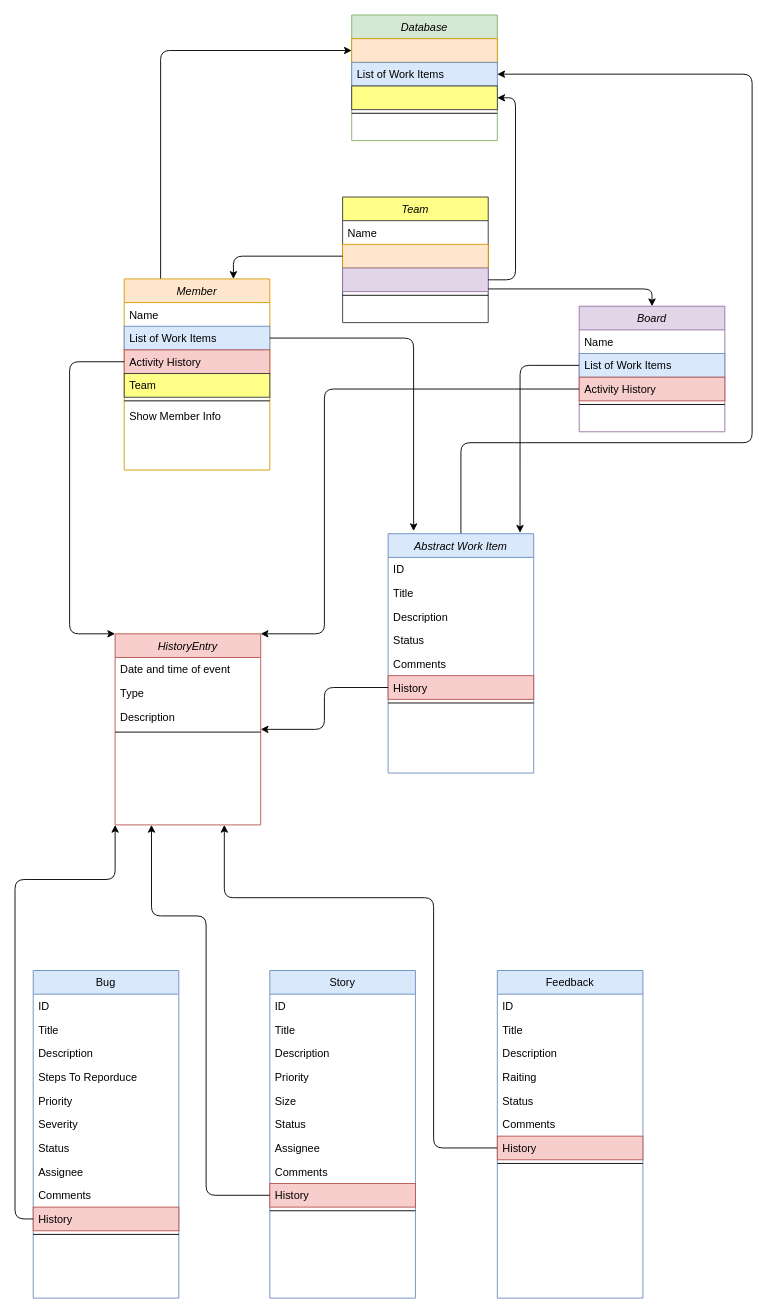
Some shapes in this 767 by 1313 pixel diagram are drawn without their labels. The centre of each missing label's shape, as x and y in pixels:
Boards: (x=415, y=279)
List Of Members: (x=424, y=50)
List of Teams: (x=424, y=97)
Members: (x=415, y=255)
